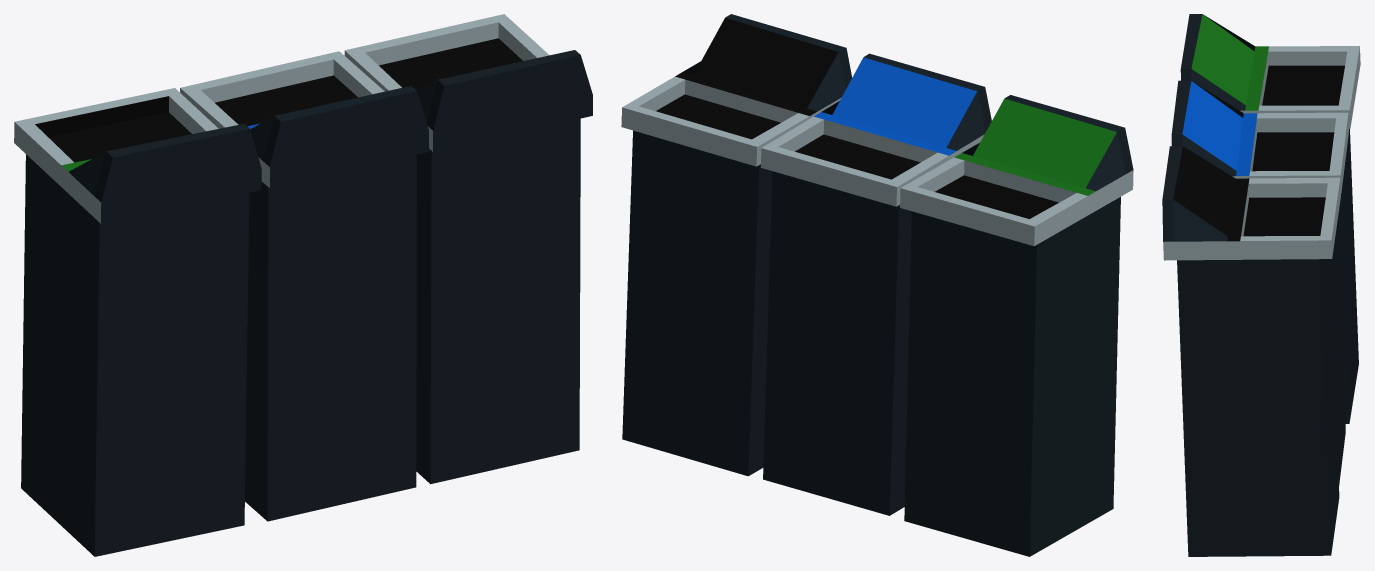
The picture shows the model from 3 angles, left to right: view 1: azimuth 30°, elevation 25°; view 2: azimuth 150°, elevation 25°; view 3: azimuth 270°, elevation 25°; orthographic projection. The views are drawn at different scales.
Parts seen in each view (by area): view 1: group529117512; view 2: group529117512; view 3: group529117512.
Boxes of the visible parts, x1,y1,x2,y2 form: group529117512: [14, 14, 592, 556]; group529117512: [621, 14, 1133, 556]; group529117512: [1162, 14, 1360, 556].
Size of the model in its own units: 1.88 by 1.53 by 0.7753.
